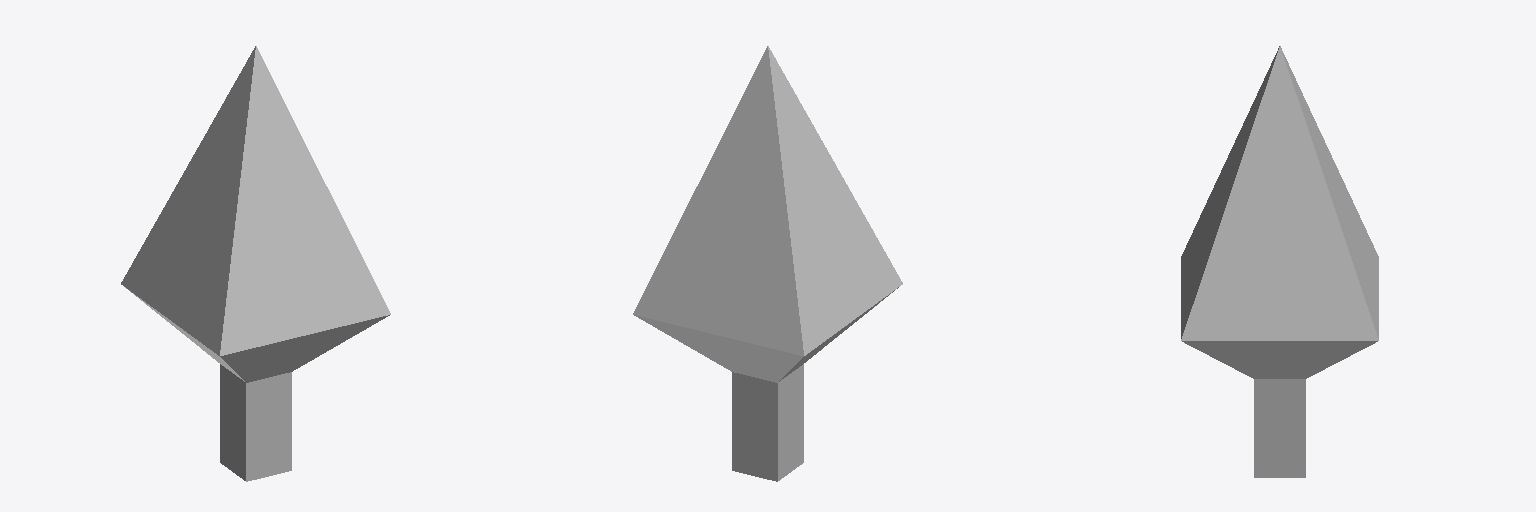
File: blerghTree.obj
3 renders of one model, left to right at view 1: azimuth 30°, elevation 25°; view 2: azimuth 150°, elevation 25°; view 3: azimuth 270°, elevation 25°, orthographic.
Parts seen in each view (by area): view 1: Cube; view 2: Cube; view 3: Cube.
Boxes of the visible parts, <box> form: Cube: <box>121,46,390,481</box>; Cube: <box>633,46,902,481</box>; Cube: <box>1181,46,1378,477</box>.
Size of the model in its own units: 2.38 by 5.59 by 2.38.